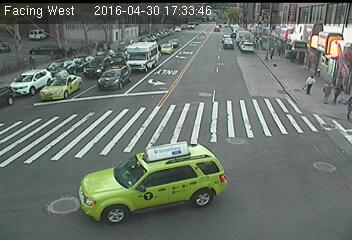neg: (25, 161, 51, 195), (124, 96, 143, 122), (295, 131, 313, 155), (206, 172, 220, 191), (66, 161, 80, 180), (213, 122, 226, 139), (124, 184, 135, 200), (280, 162, 290, 176), (229, 70, 239, 83), (179, 83, 187, 94), (255, 126, 263, 137), (173, 129, 178, 137)
pos: (301, 71, 318, 95), (318, 80, 335, 102), (332, 83, 345, 101), (23, 54, 35, 70), (266, 45, 276, 58)
